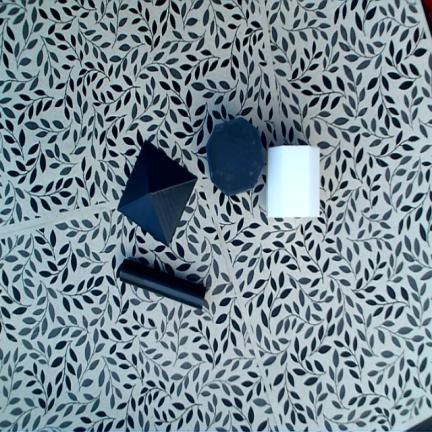Cilindro: (120, 259, 206, 310)
Piramide: (117, 141, 198, 247)
Prisma_hexagonal: (206, 117, 265, 196), (267, 145, 320, 218)
